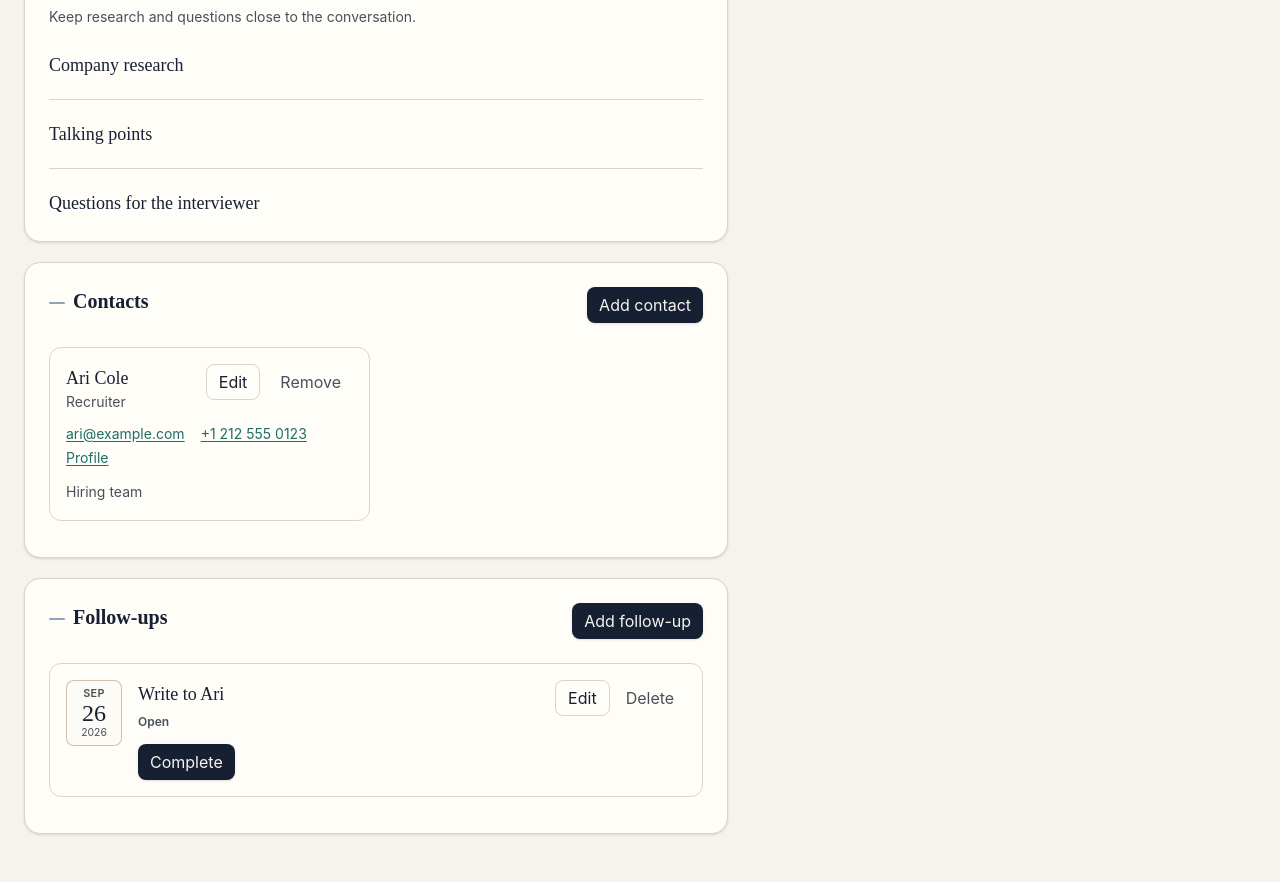
keeps Delete Write to Ari confirmation cancellable after disconnection
The image size is (1280, 882).
(page scrolled)
Click the button with aria-label "Delete Write to Ari" at (650,698), box [614,680,686,716]
(page scrolled)
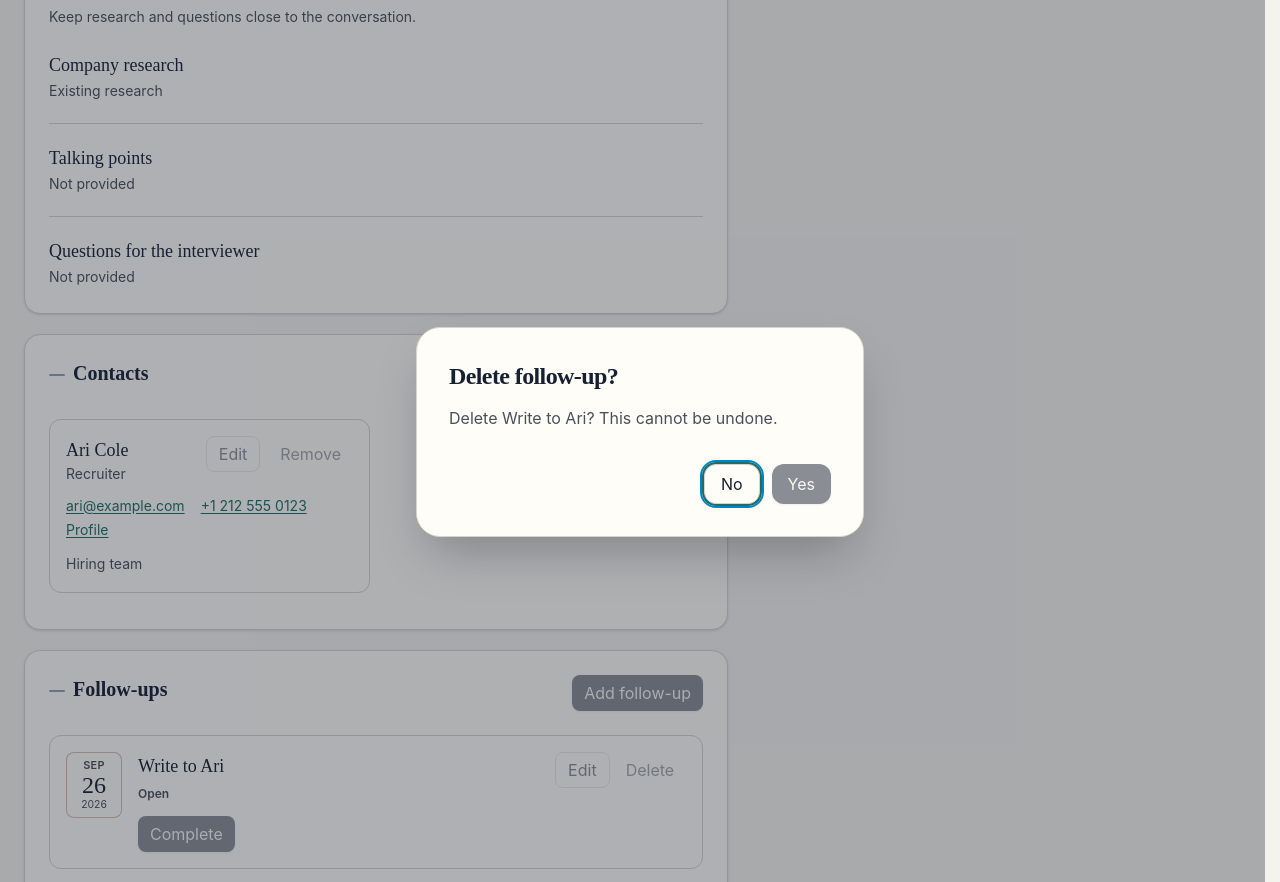
Expected: the button "Yes" is disabled, [772,464,831,504]
Expected: the button "No" is enabled
Click the button "No" at (732,484), box [704,464,760,504]
(page scrolled)
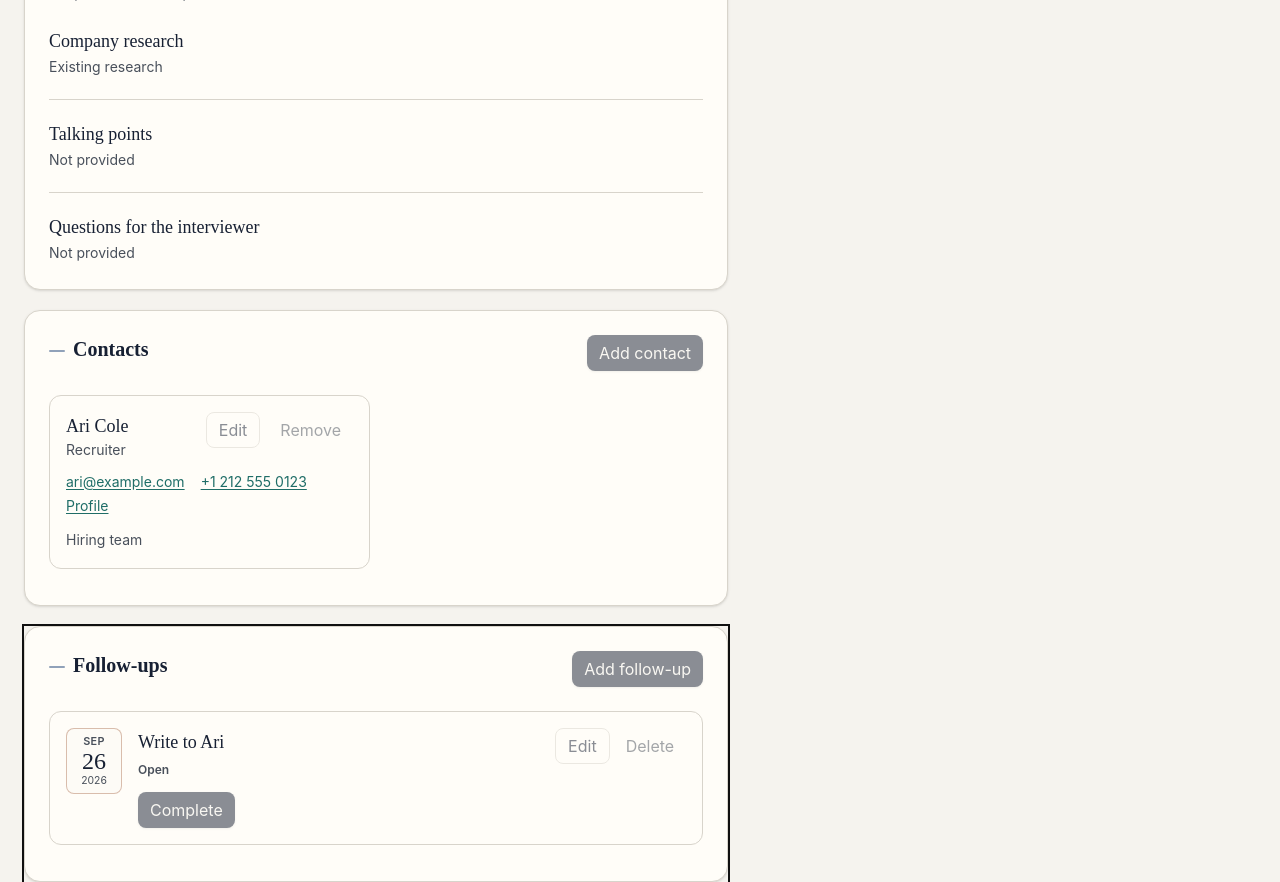
Expected: the dialog is gone
